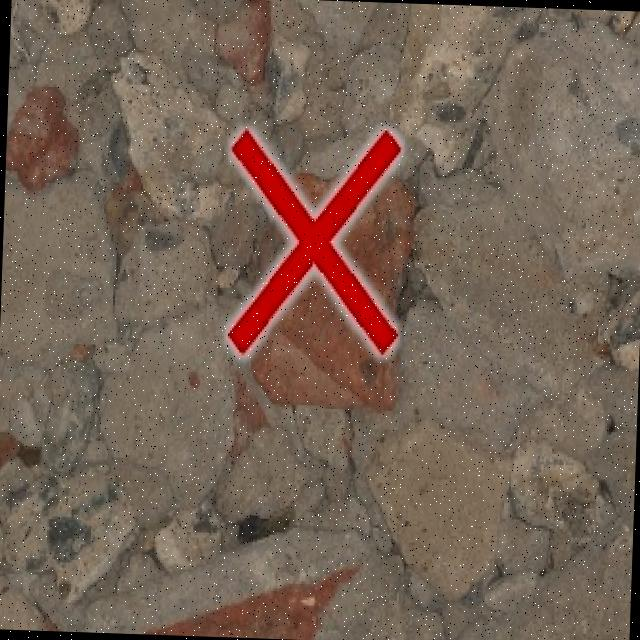x_marker: (224, 124, 402, 358)
